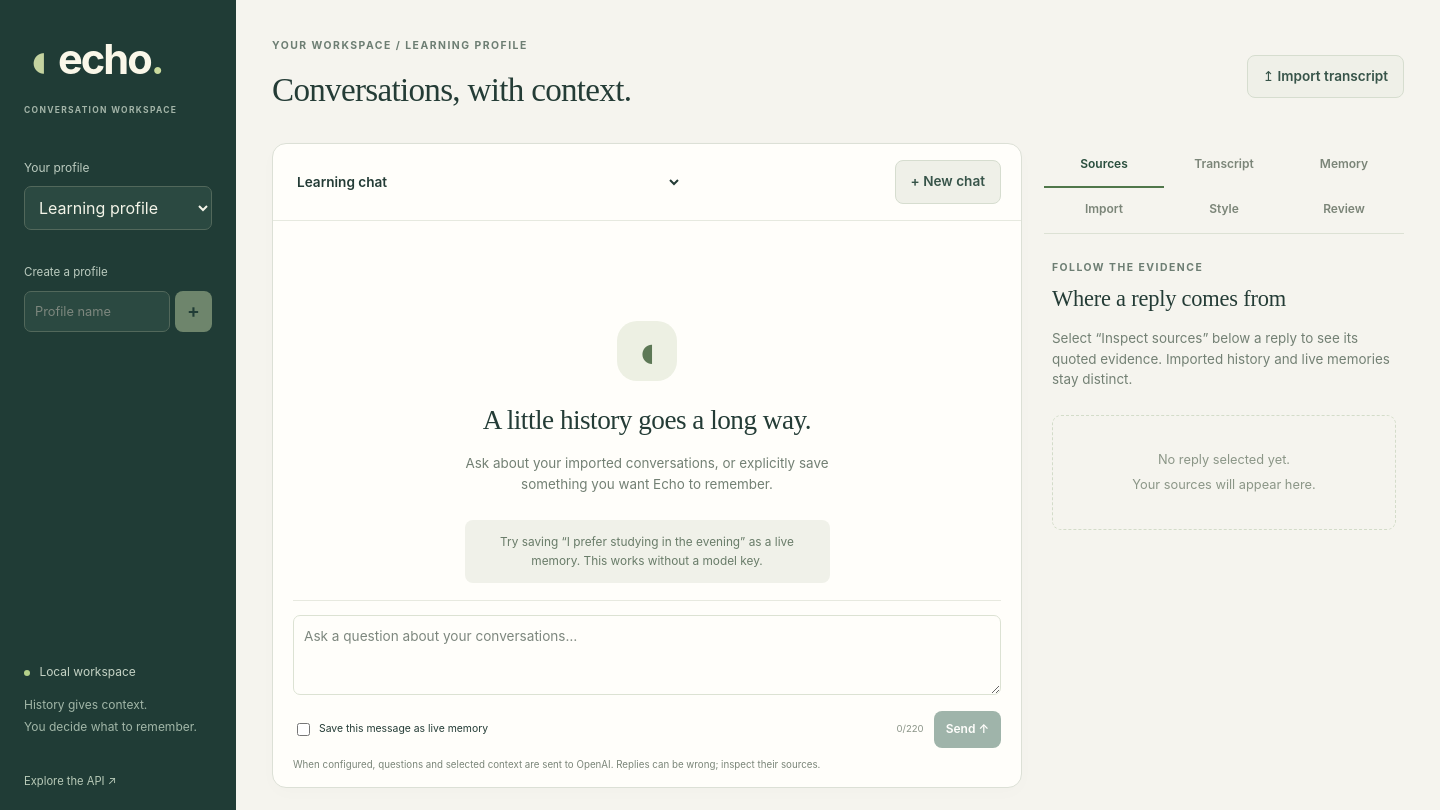
saves explicit memory with session revision, renders persisted sources, and allows retraction
The width and height of the screenshot is (1440, 810).
Step 1. Type "I study at night" into the text box named "Message" → point(647, 655), box [293,615,1001,695]
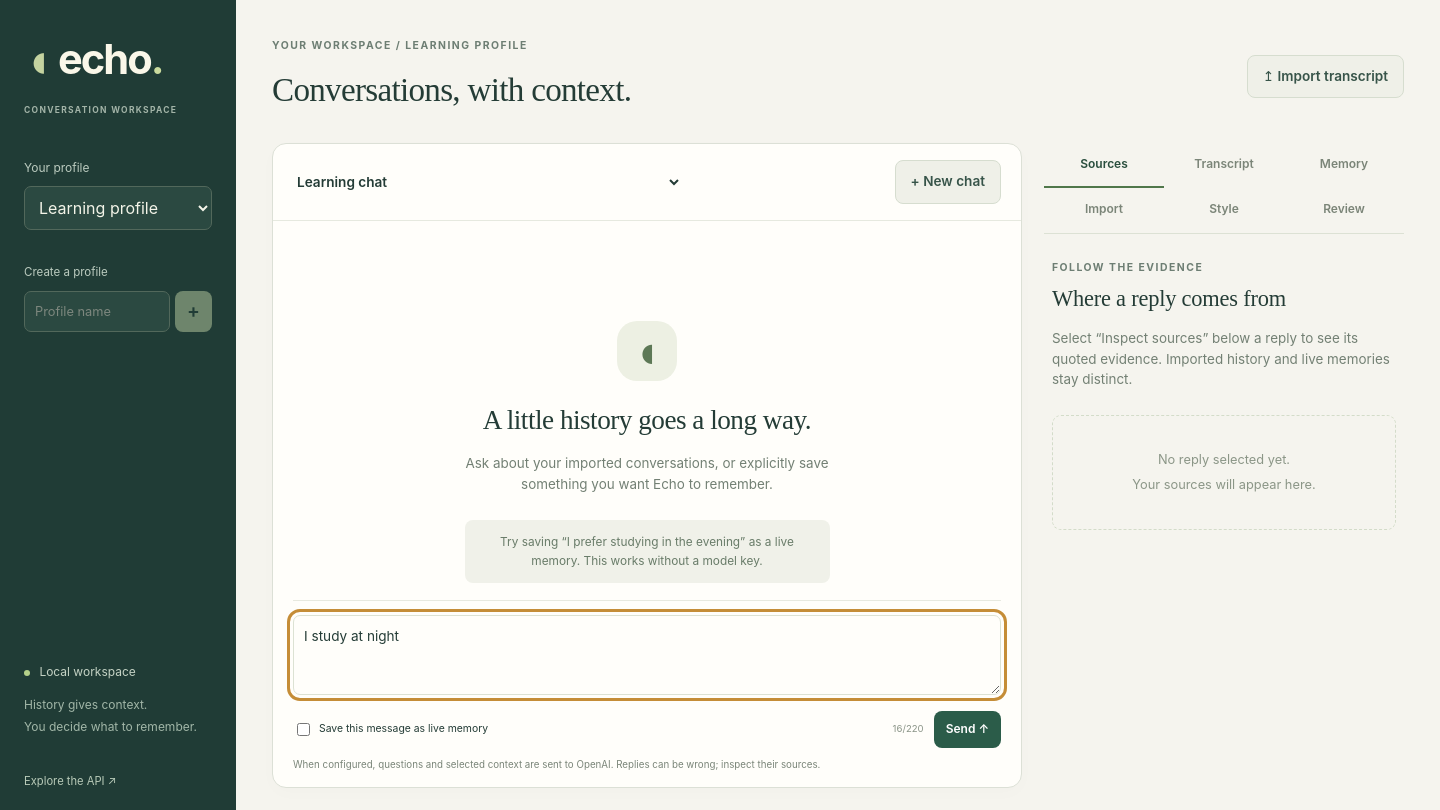
Step 2. Click the checkbox labelled "Save this message as live memory" → point(304, 730), box [297,723,310,736]
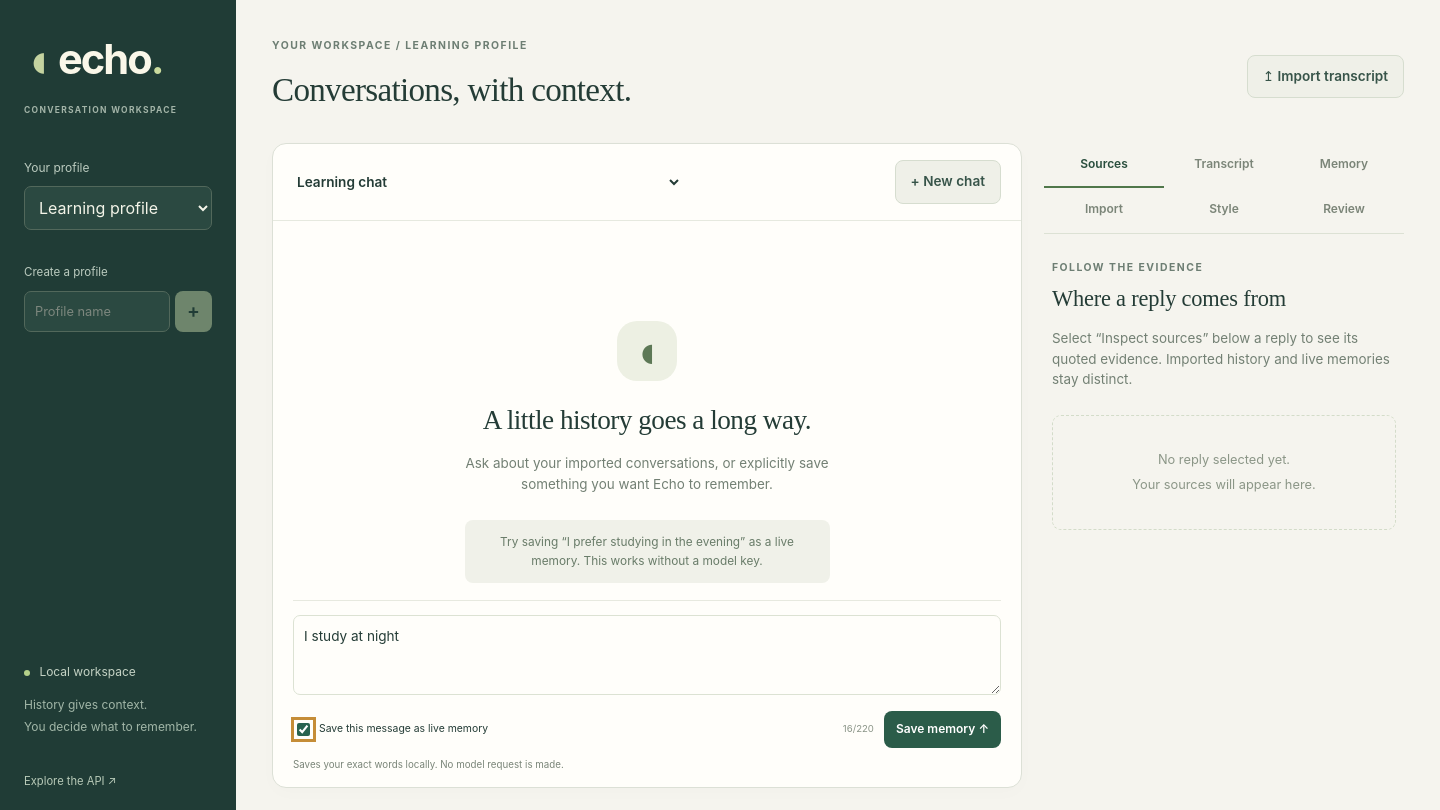
Step 3. Click the button "Save memory ↑" → point(942, 730), box [884,711,1001,748]
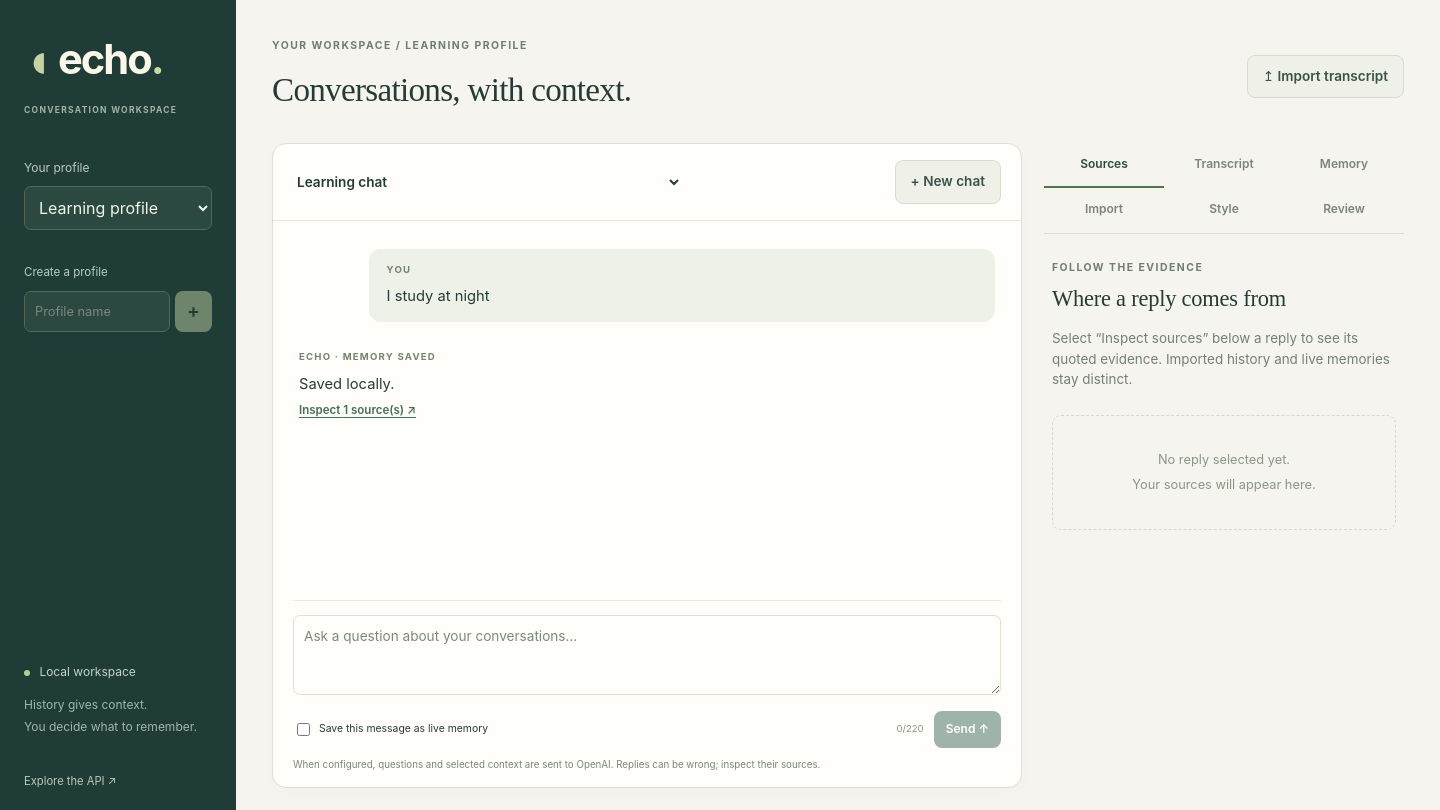
Result: the text "Saved locally." is shown at [299,375,394,393]
Step 4. Click the button "Inspect 1 source(s) ↗" → point(358, 411), box [299,398,416,424]
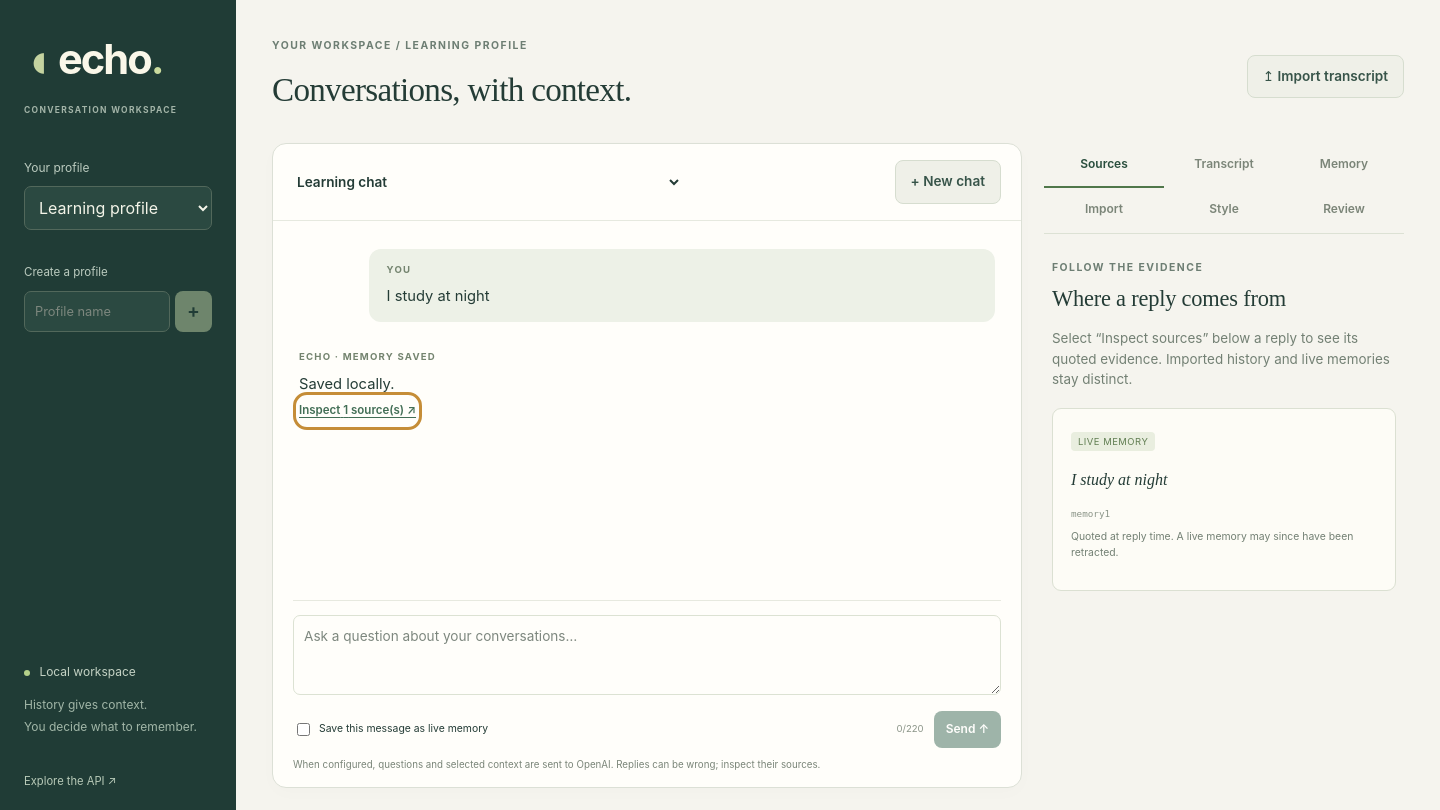
Result: the text "memory1" is shown at [1071,508,1110,519]
Step 5. Click the button "Memory" → point(1344, 166), box [1284,144,1404,188]
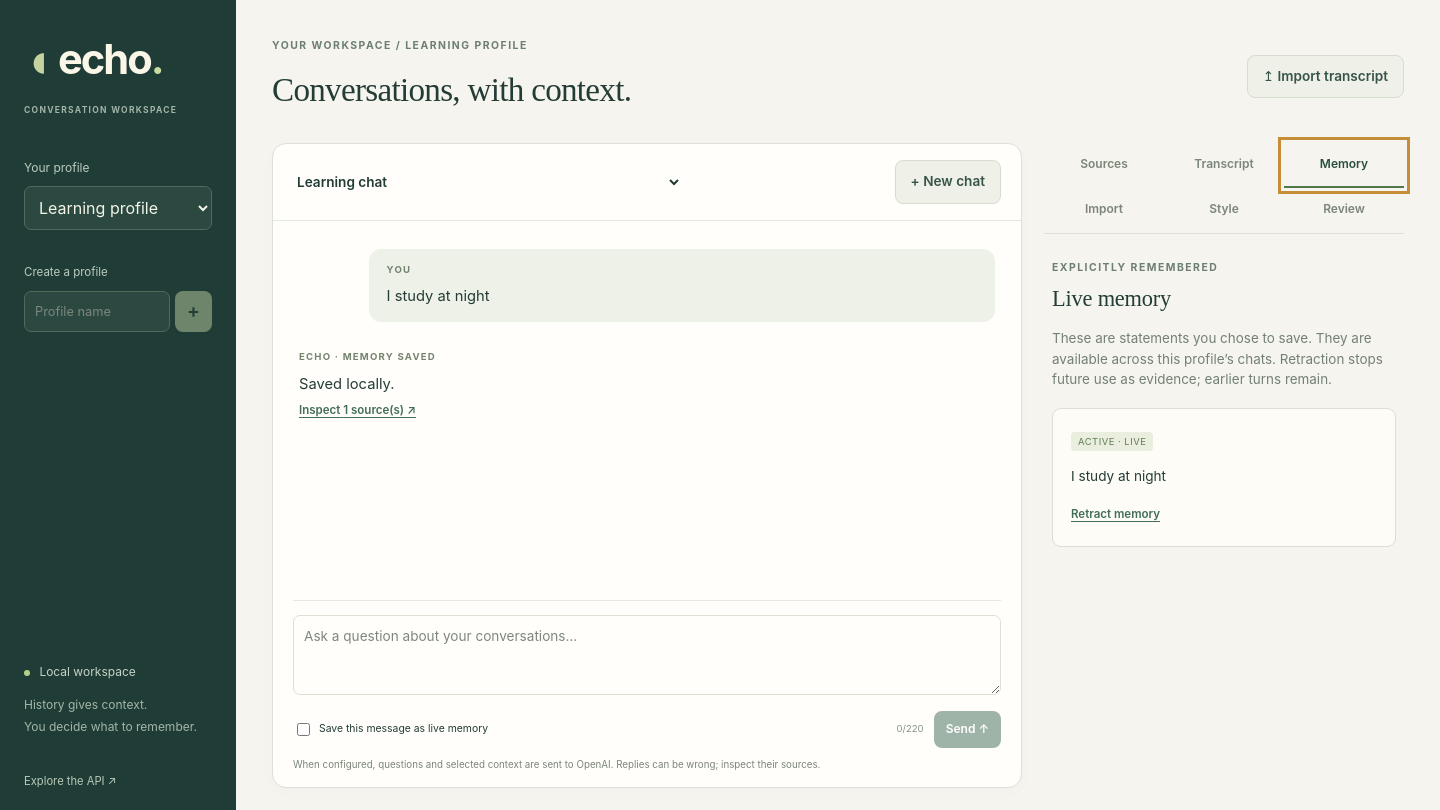
Step 6. Click the button "Retract memory" → point(1116, 515), box [1071,502,1160,528]
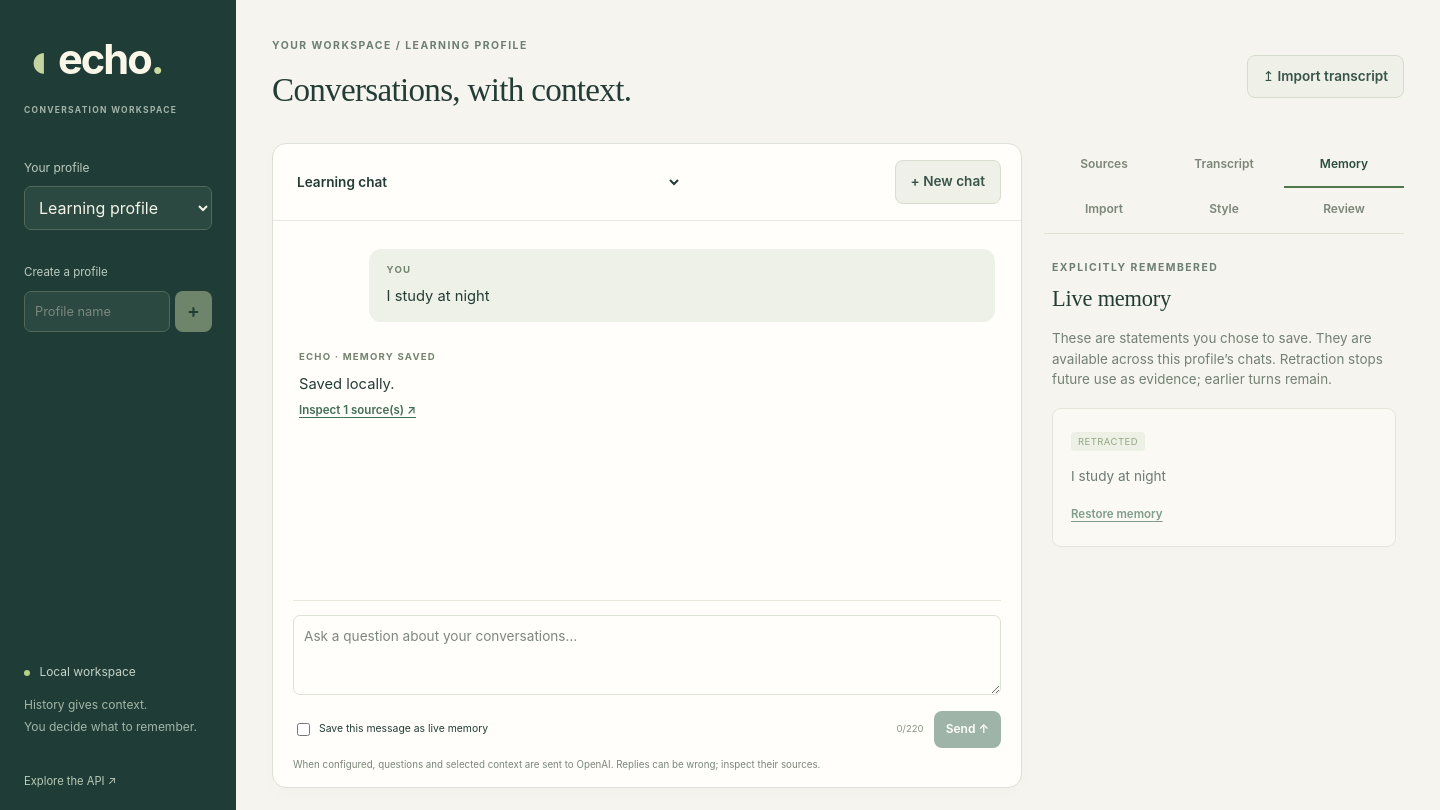
Result: the text "Retracted" is shown at [1071,432,1145,451]
